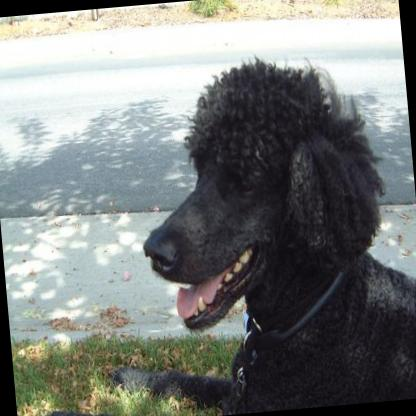standard_poodle: (0, 38, 416, 416)
